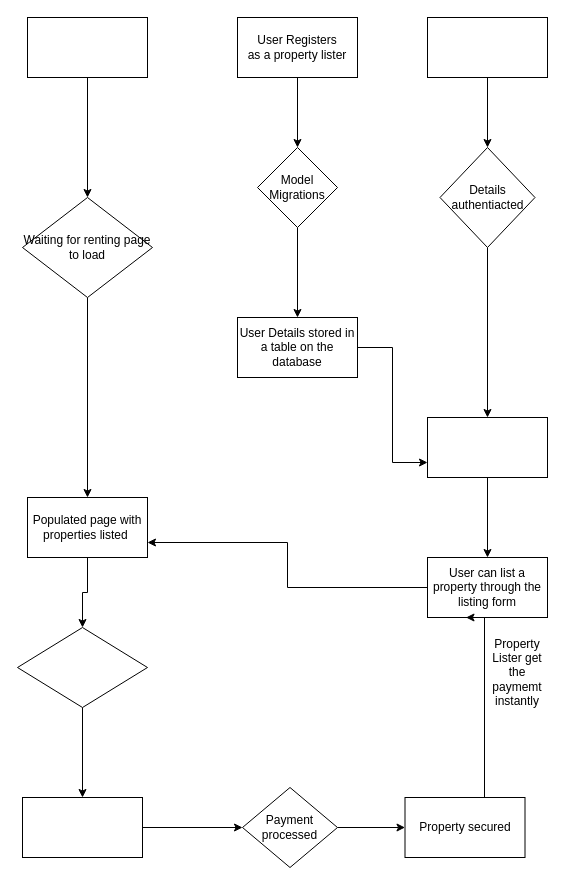
The diagram is 565 pixels wide and 885 high, and some of its shapes have lost their labels. Each missing label, with the box of its shape:
Guest User: (26, 16, 148, 78)
Property confirmed and payment initiated: (22, 796, 142, 858)
User can select the property: (16, 626, 148, 708)
User have access to the dashboard: (426, 416, 548, 478)
User Provide details for login: (426, 16, 548, 78)
